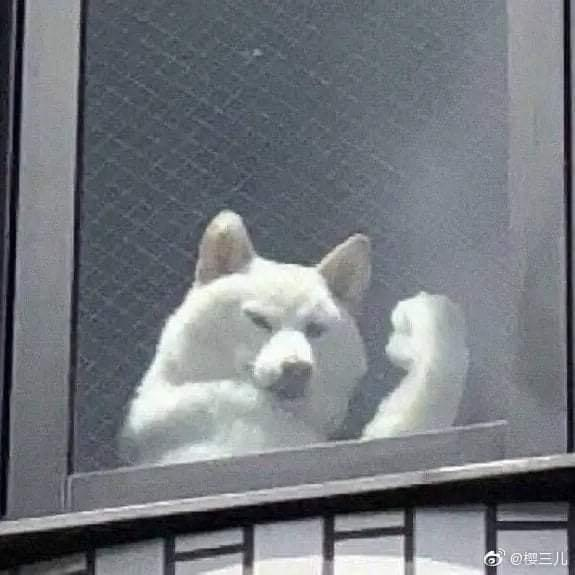dog: (117, 209, 468, 442)
